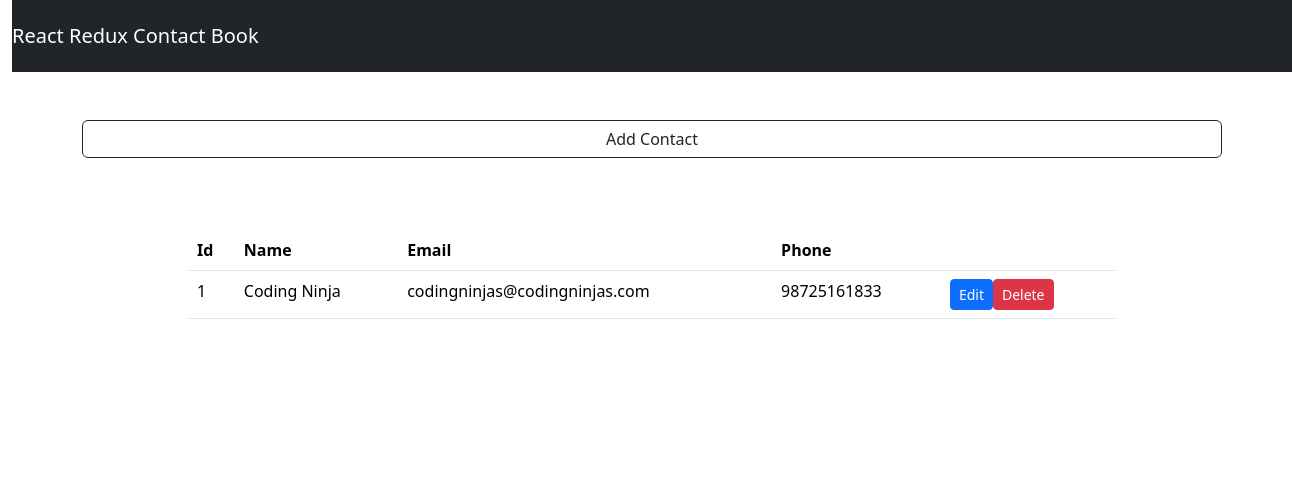
Test: Contact Book App › should navigate to Edit Contact page when "Edit" button is clicked
Click the link "Edit".
click(972, 295)  # box [950,279,993,310]
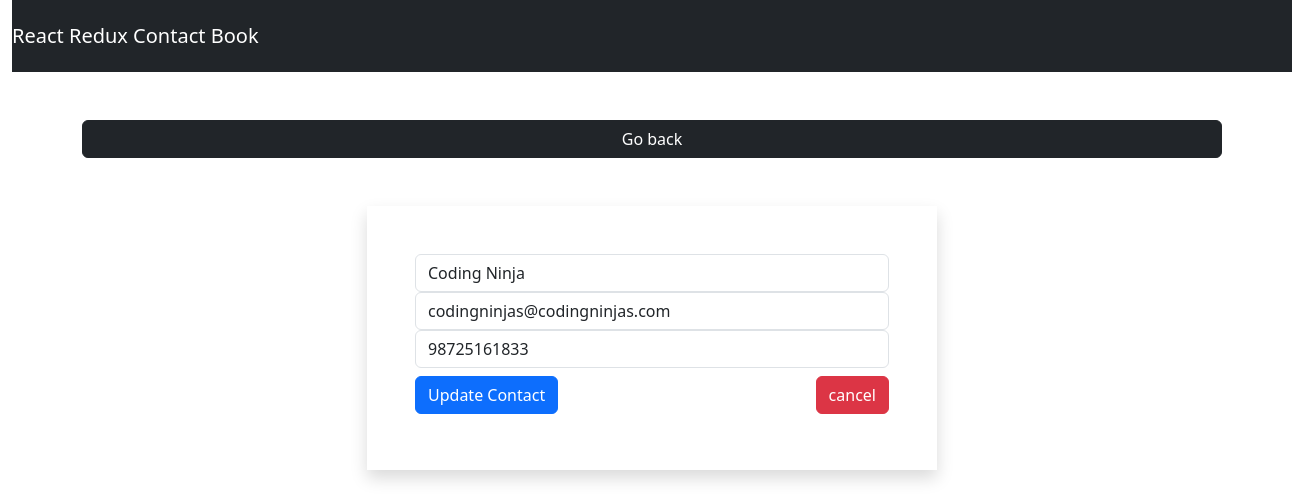
Expected: the button "Update Contact" is shown, [415,376,558,414]
